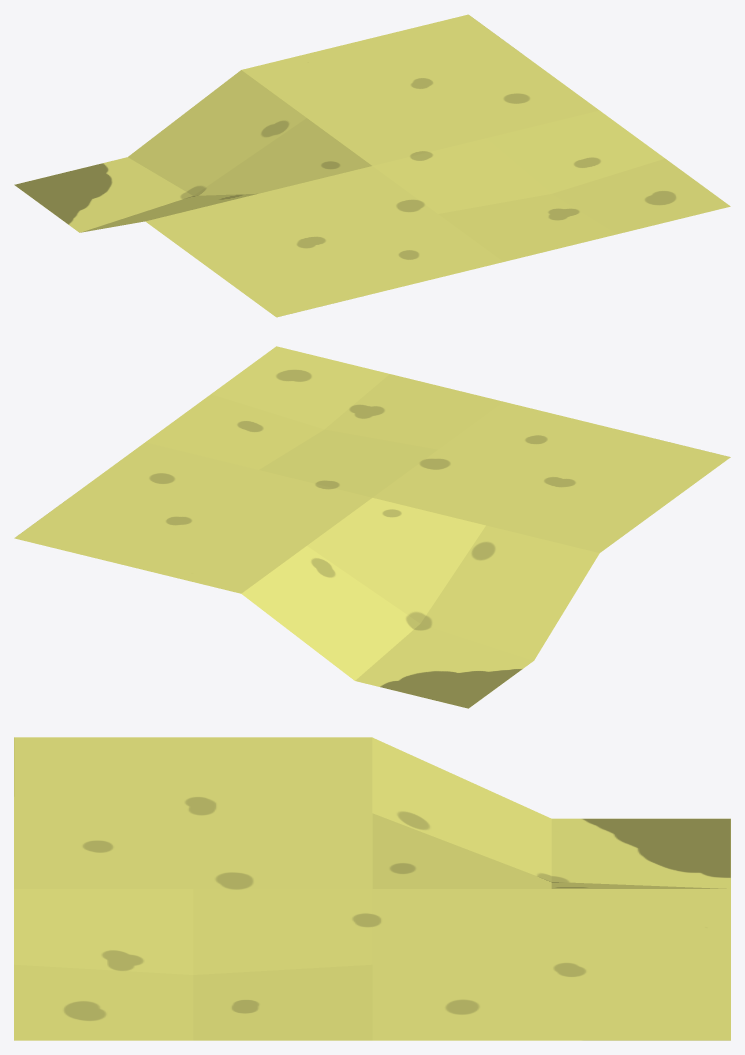
Rendered from AreiaInferiorEsquerdo.glb.
3 renders of one model, top to bottom at view 1: azimuth 30°, elevation 25°; view 2: azimuth 150°, elevation 25°; view 3: azimuth 270°, elevation 25°, orthographic. The views are drawn at different scales.
Parts seen in each view (by area): view 1: Plano; view 2: Plano; view 3: Plano.
Boxes of the visible parts, x1,y1,x2,y2 form: Plano: [14, 14, 730, 317]; Plano: [14, 346, 730, 708]; Plano: [14, 737, 730, 1040].
Bounding box in the file's own units: 2 × 0.25 × 2.
Materials: 1 (1 with a texture image).
